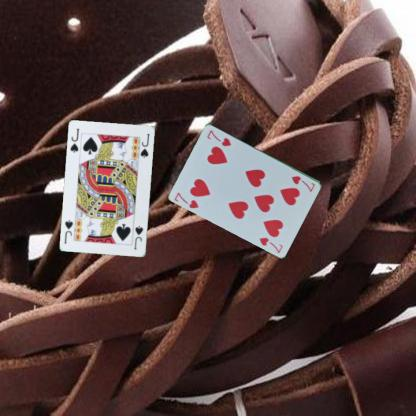7h: (289, 173, 317, 193), (172, 190, 200, 210)
Js: (131, 223, 145, 250), (68, 126, 80, 154)
